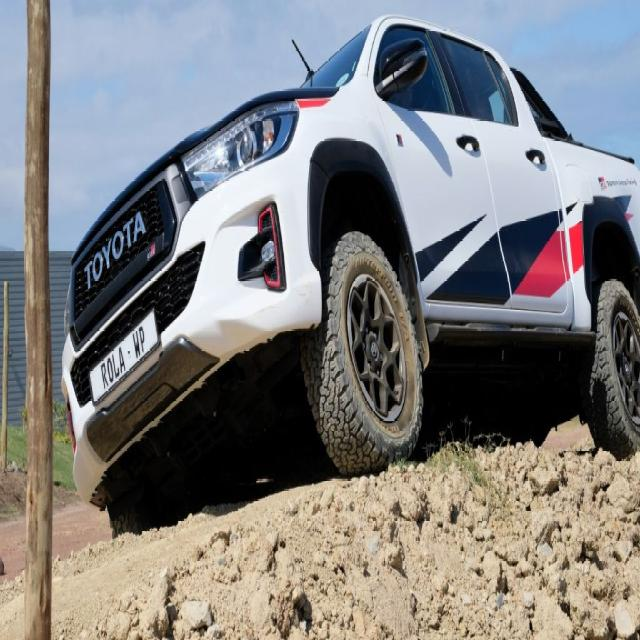Pickup Trucks: (60, 13, 640, 554)
